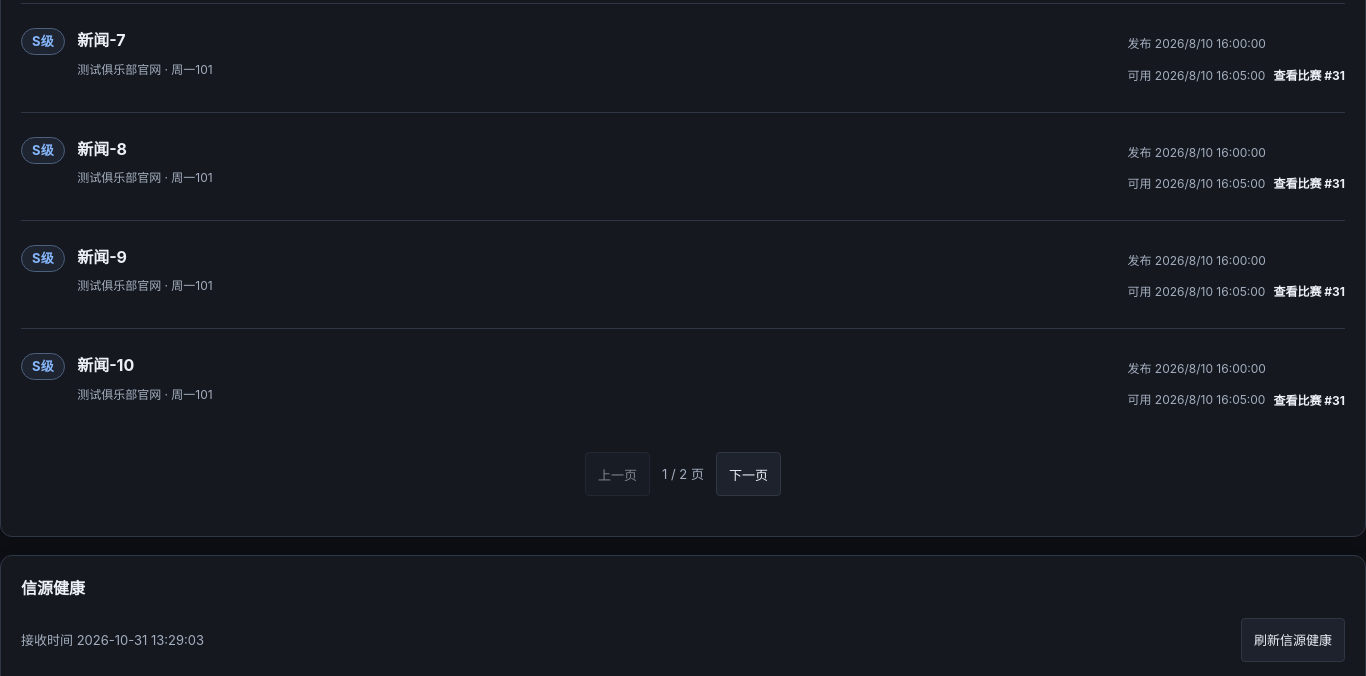
Test: NewsIntelligencePage › article search and source-level filter reset pagination
(page scrolled)
Step 1. Click the button with aria-label "文章下一页" → (748, 474), box x1=716 y1=452 x2=781 y2=496
(page scrolled)
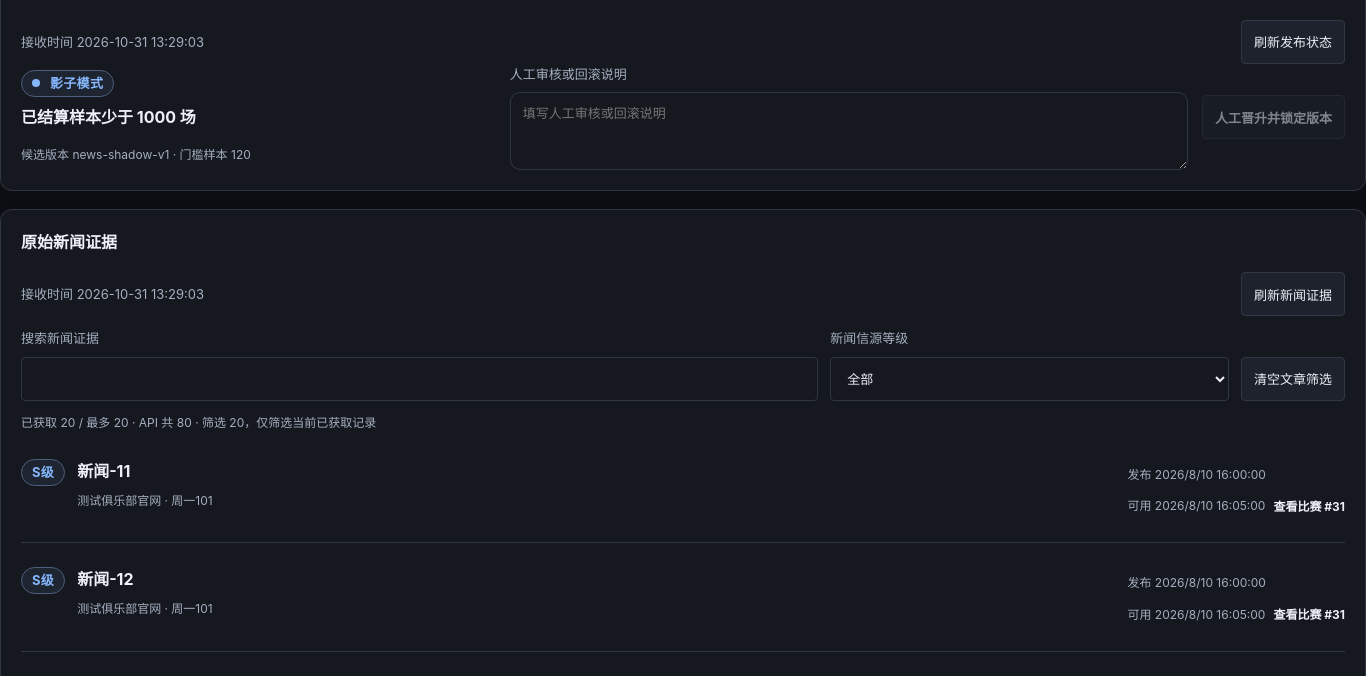
Result: the link "新闻-11" is shown at x1=77 y1=461 x2=130 y2=481
Step 2. Select "D" in the dropdown labelled "新闻信源等级" → (1030, 379), box x1=830 y1=357 x2=1229 y2=401
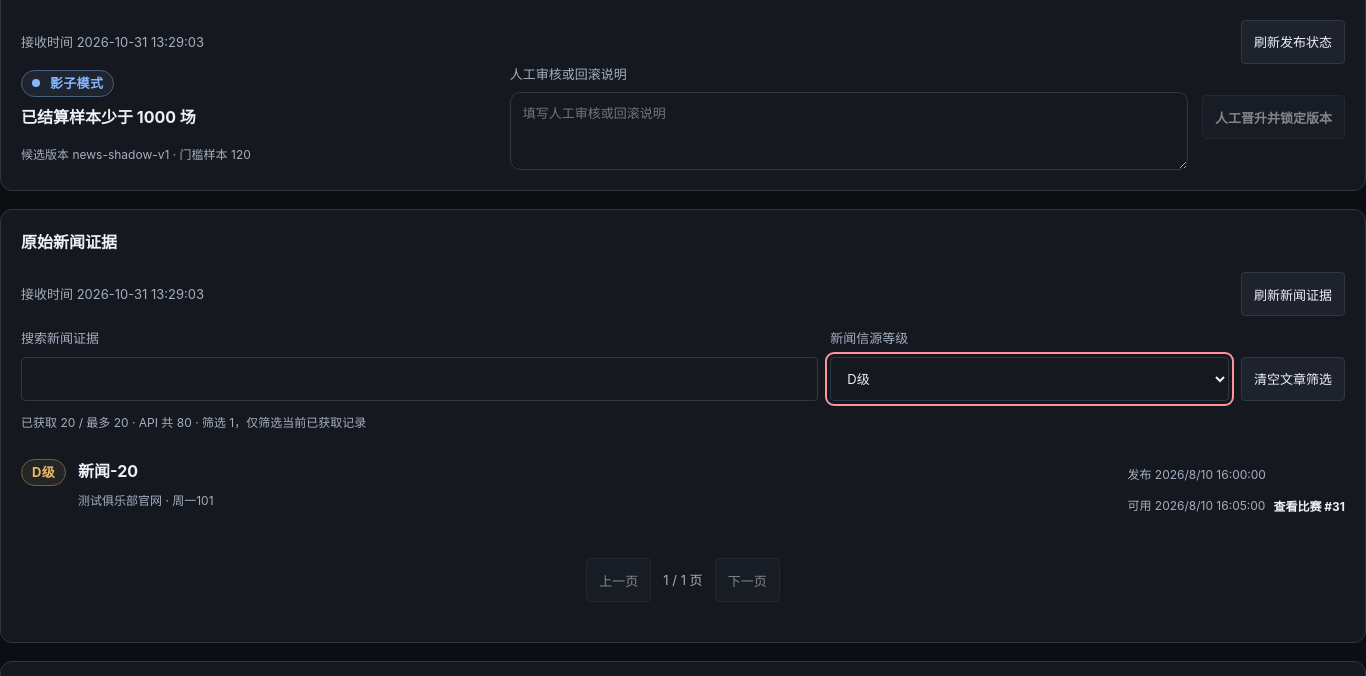
Result: the link "新闻-20" is shown at x1=78 y1=461 x2=138 y2=481
Result: the link "新闻-11" is gone
Step 3. Type "不存在" into the field labelled "搜索新闻证据" → (420, 379), box x1=21 y1=357 x2=818 y2=401
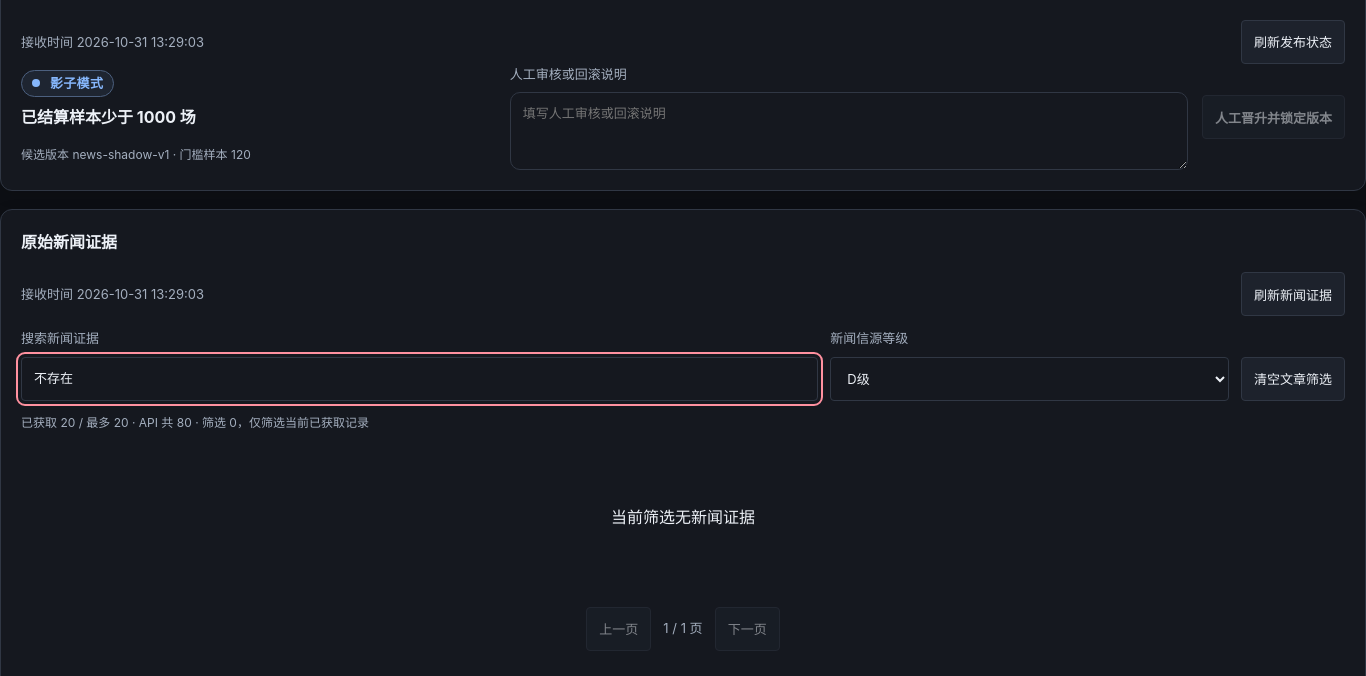
Result: the text "当前筛选无新闻证据" is shown at x1=611 y1=507 x2=755 y2=527
